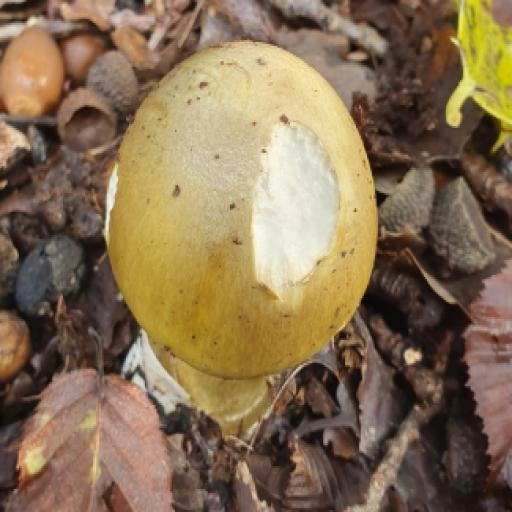mushroom: (15, 0, 459, 443)
